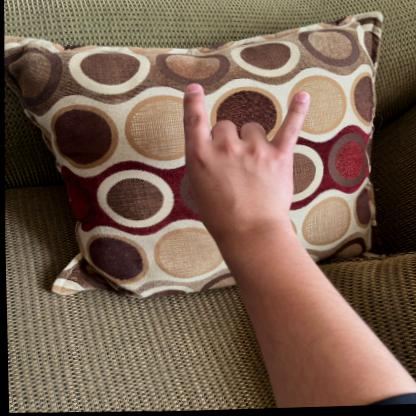U: (164, 77, 317, 244)
